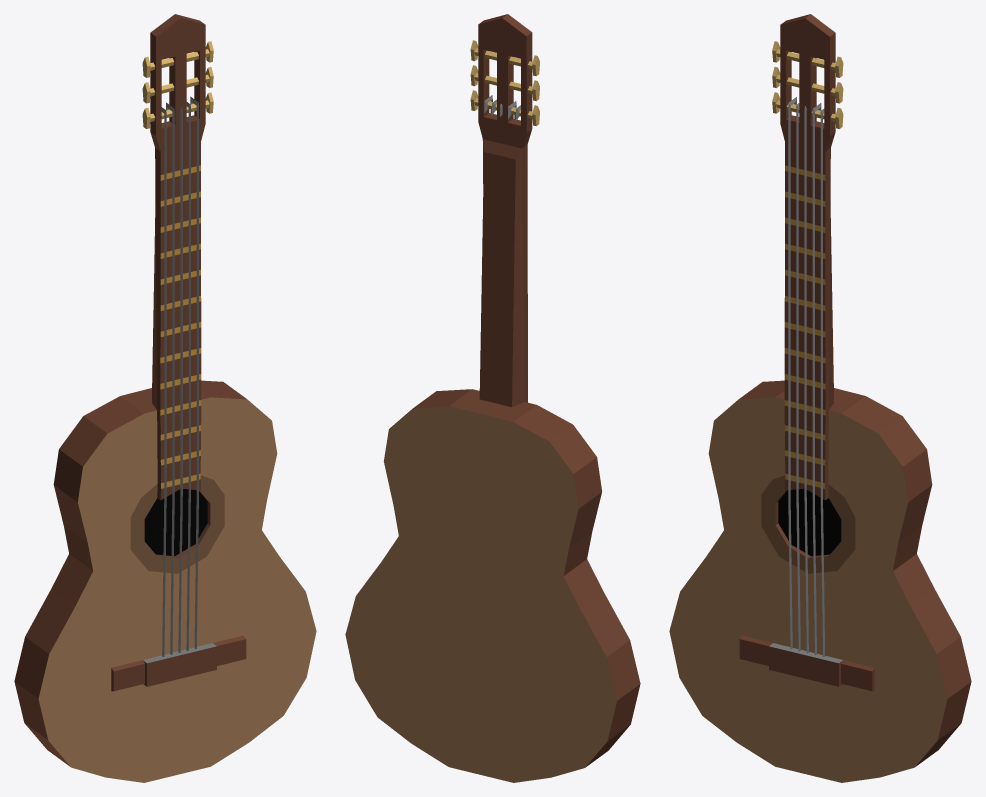
File: Int_MusicRoomGuitar01.fbx
3 views of the same model, side by side, from view 1: azimuth 30°, elevation 25°; view 2: azimuth 150°, elevation 25°; view 3: azimuth 330°, elevation 25° (orthographic). The views are drawn at different scales.
Parts seen in each view (by area): view 1: Int_MusicRoomGuitar01; view 2: Int_MusicRoomGuitar01; view 3: Int_MusicRoomGuitar01.
Boxes of the visible parts, bbox=[...] form: Int_MusicRoomGuitar01: bbox=[14, 14, 316, 782]; Int_MusicRoomGuitar01: bbox=[345, 14, 640, 782]; Int_MusicRoomGuitar01: bbox=[669, 14, 971, 782].
Size of what is drawn, in the model's own units: 50.06 by 8.9 by 131.
